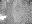person: (1, 14, 6, 20)
